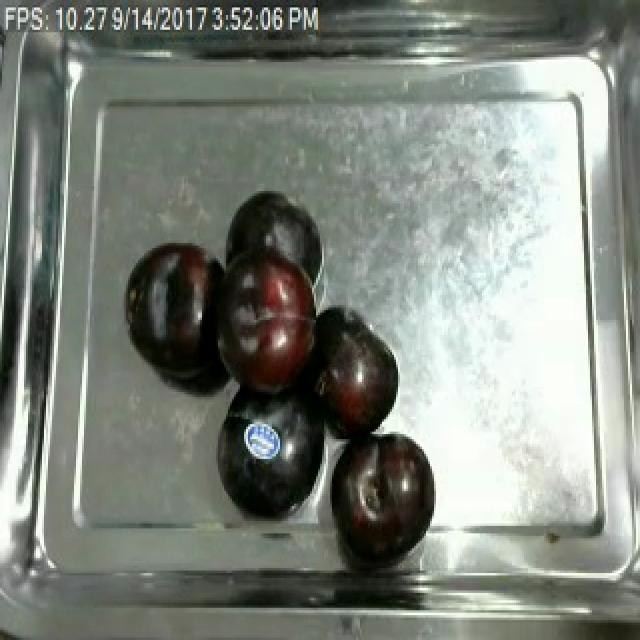Fruit: (210, 374, 332, 524), (326, 422, 440, 563), (218, 184, 324, 332), (132, 236, 226, 384), (308, 313, 408, 444)
